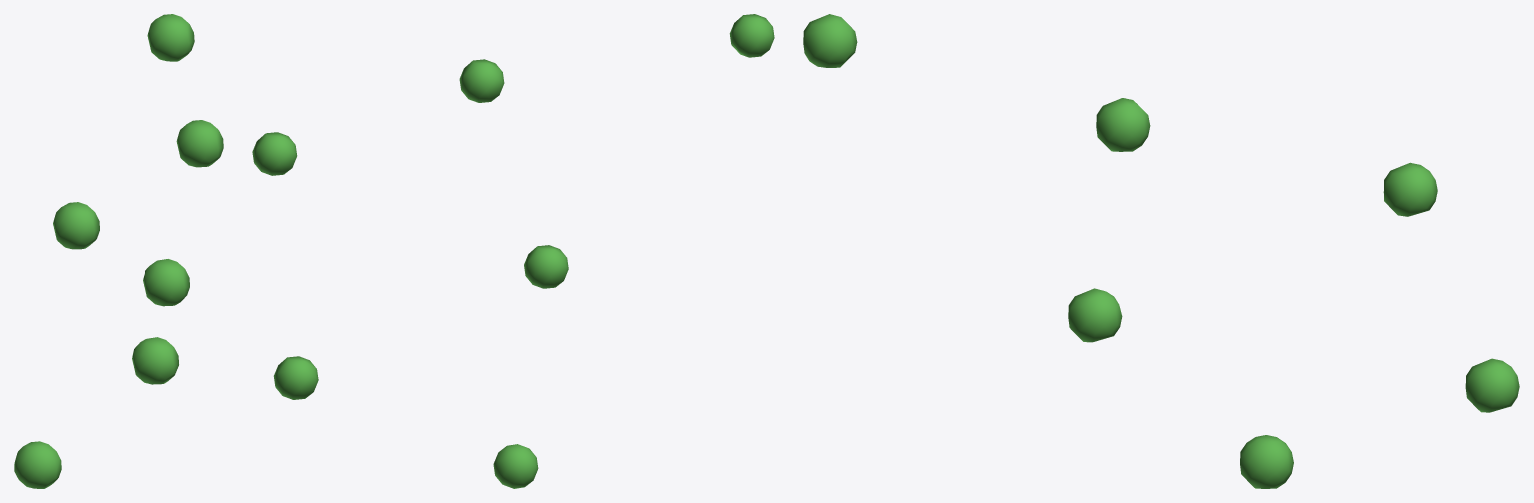
Rendered from linfatico-lateral-vesical-nodes-l.glb.
The picture shows the model from 3 angles, left to right: view 1: azimuth 30°, elevation 25°; view 2: azimuth 150°, elevation 25°; view 3: azimuth 270°, elevation 25°; orthographic projection. The views are drawn at different scales.
Visible parts, largest first — view 1: Lateral vesical nodes.l; view 2: Lateral vesical nodes.l; view 3: Lateral vesical nodes.l.
Part boxes in pixels (x1=…): Lateral vesical nodes.l: x1=14, y1=14, x2=223, y2=488; Lateral vesical nodes.l: x1=252, y1=14, x2=774, y2=488; Lateral vesical nodes.l: x1=803, y1=14, x2=1519, y2=488.
Size of the model in its own units: 0.0184 by 0.0227 by 0.0334.
